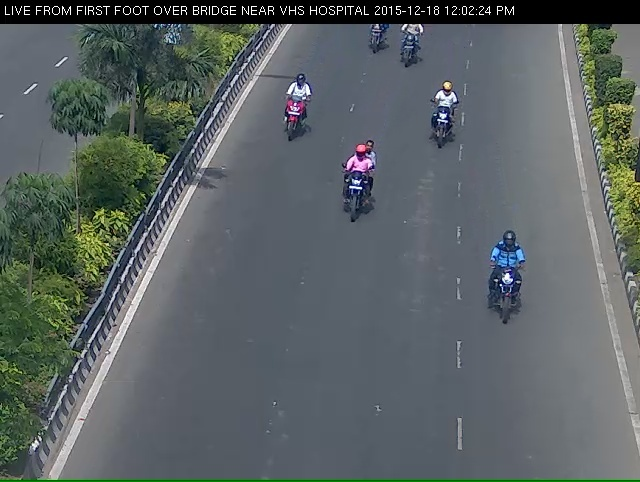Person: (484, 234, 533, 344), (334, 154, 371, 249), (262, 85, 302, 158), (424, 87, 457, 157), (394, 24, 419, 81), (356, 22, 384, 66)
